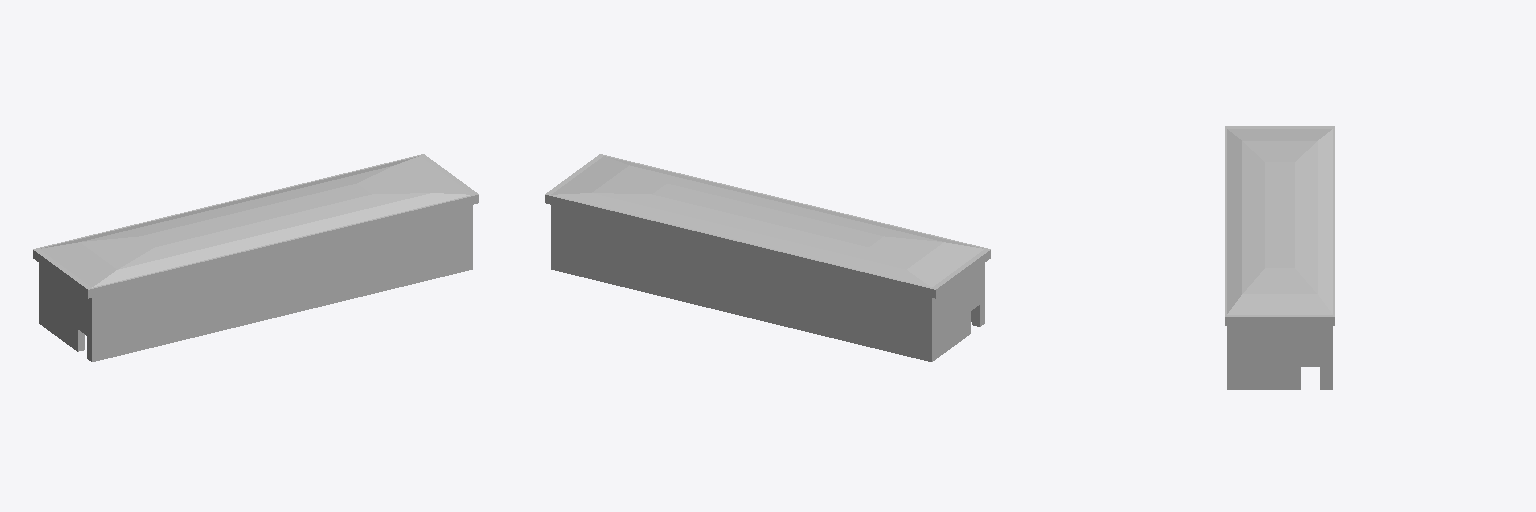
Rendered from actual hall.obj.
The picture shows the model from 3 angles: view 1: azimuth 30°, elevation 25°; view 2: azimuth 150°, elevation 25°; view 3: azimuth 270°, elevation 25°; orthographic projection.
Parts seen in each view (by area): view 1: Box010; view 2: Box010; view 3: Box010.
Part boxes in pixels (x1,y1,x2,y2): Box010: (33, 154, 478, 361); Box010: (545, 154, 990, 361); Box010: (1225, 126, 1334, 389).
Bounding box in the file's own units: 300 × 59.62 × 73.76.